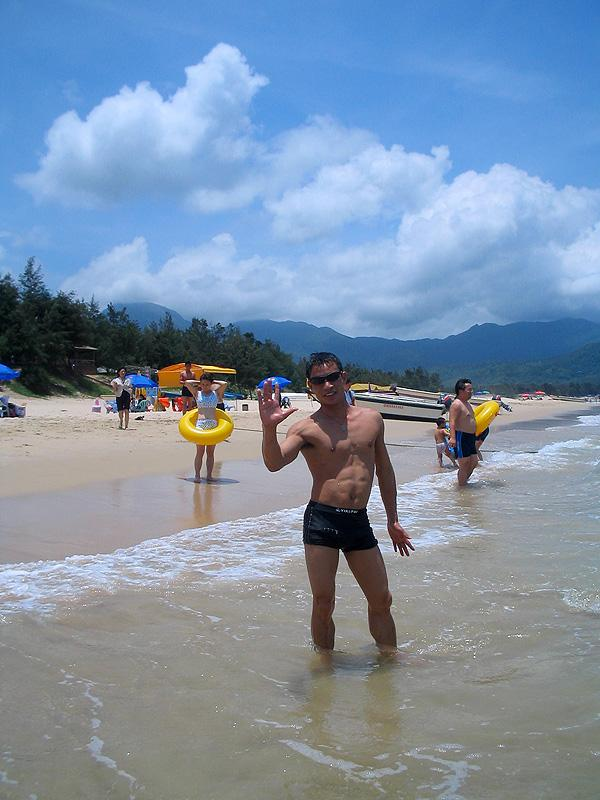person: (257, 353, 412, 668)
